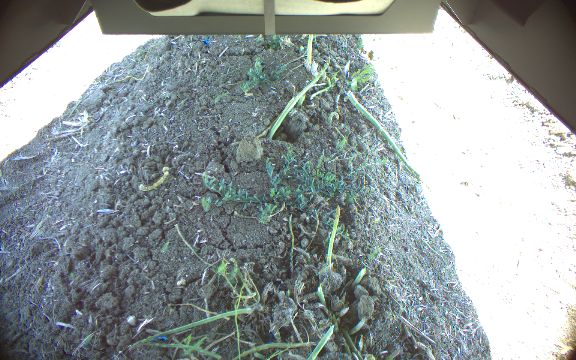aspa: (265, 60, 331, 142), (303, 322, 335, 360), (326, 204, 342, 270), (303, 34, 316, 70)
